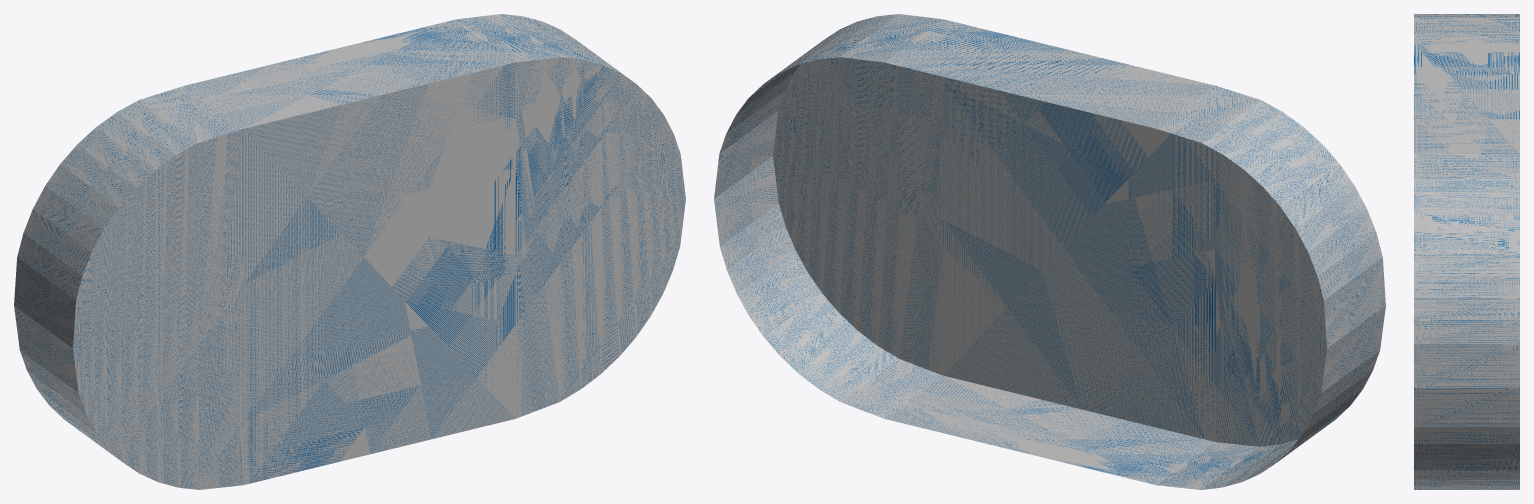
The model's file is original-20.obj.
3 views of the same model, side by side, from view 1: azimuth 30°, elevation 25°; view 2: azimuth 150°, elevation 25°; view 3: azimuth 270°, elevation 25° (orthographic). The views are drawn at different scales.
Visible parts, largest first — view 1: mesh9/mesh9-geometry/material_0/component_7#mesh9-geometry; view 2: mesh9/mesh9-geometry/material_0/component_7#mesh9-geometry; view 3: mesh9/mesh9-geometry/material_0/component_7#mesh9-geometry.
Boxes of the visible parts, x1,y1,x2,y2 form: mesh9/mesh9-geometry/material_0/component_7#mesh9-geometry: (14, 14, 685, 489); mesh9/mesh9-geometry/material_0/component_7#mesh9-geometry: (714, 14, 1385, 489); mesh9/mesh9-geometry/material_0/component_7#mesh9-geometry: (1414, 14, 1519, 489).
Size of the model in its own units: 0.091 by 0.0506 by 0.0152.
